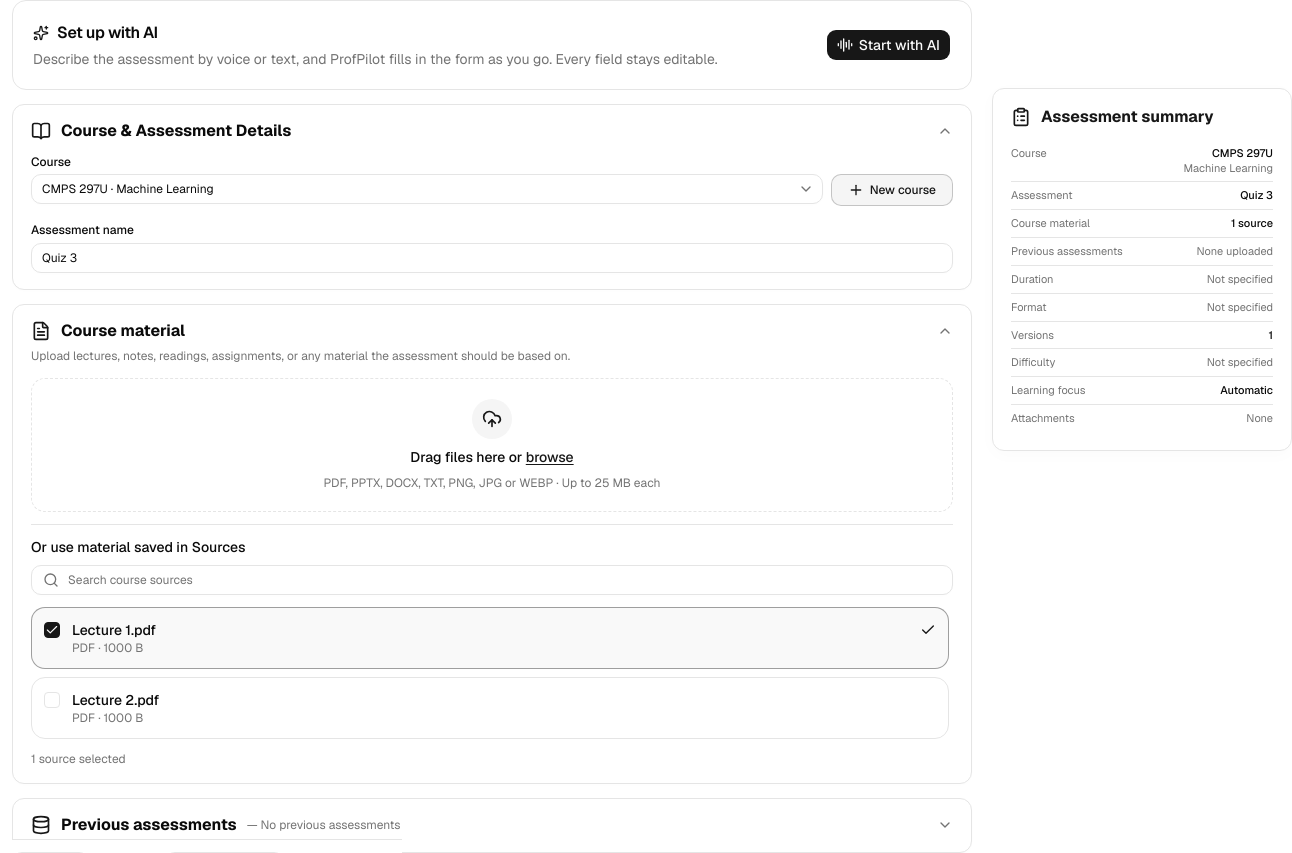
Test: Set up with AI can set the learning focus and select sources, like the manual controls
Click the button "Start with AI".
click(888, 45)  # box x1=826 y1=29 x2=951 y2=61
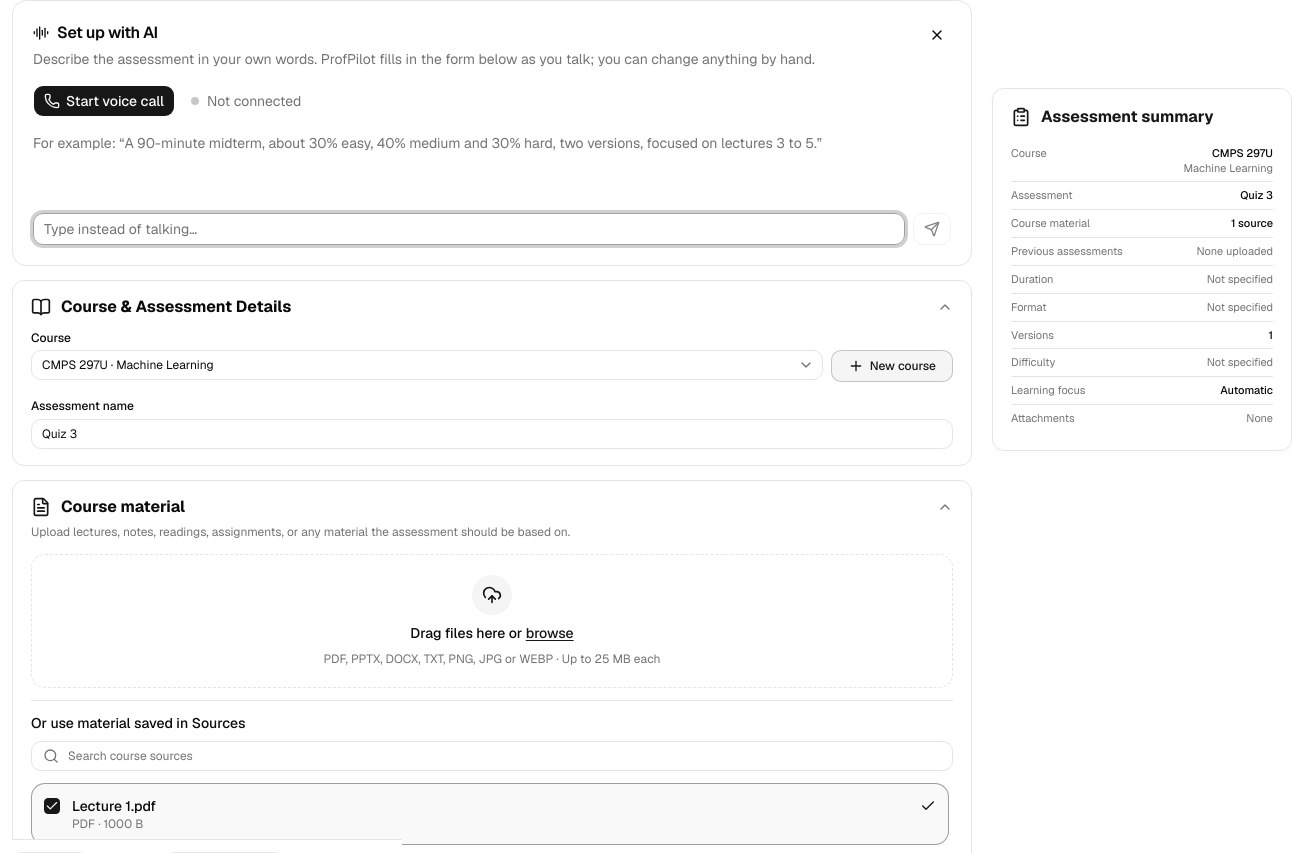
Type "Practical focus, and use lecture 2 instead." into the field named "Message to ProfPilot".
click(469, 229); type("Practical focus, and use lecture 2 instead.")  # box x1=33 y1=213 x2=905 y2=245
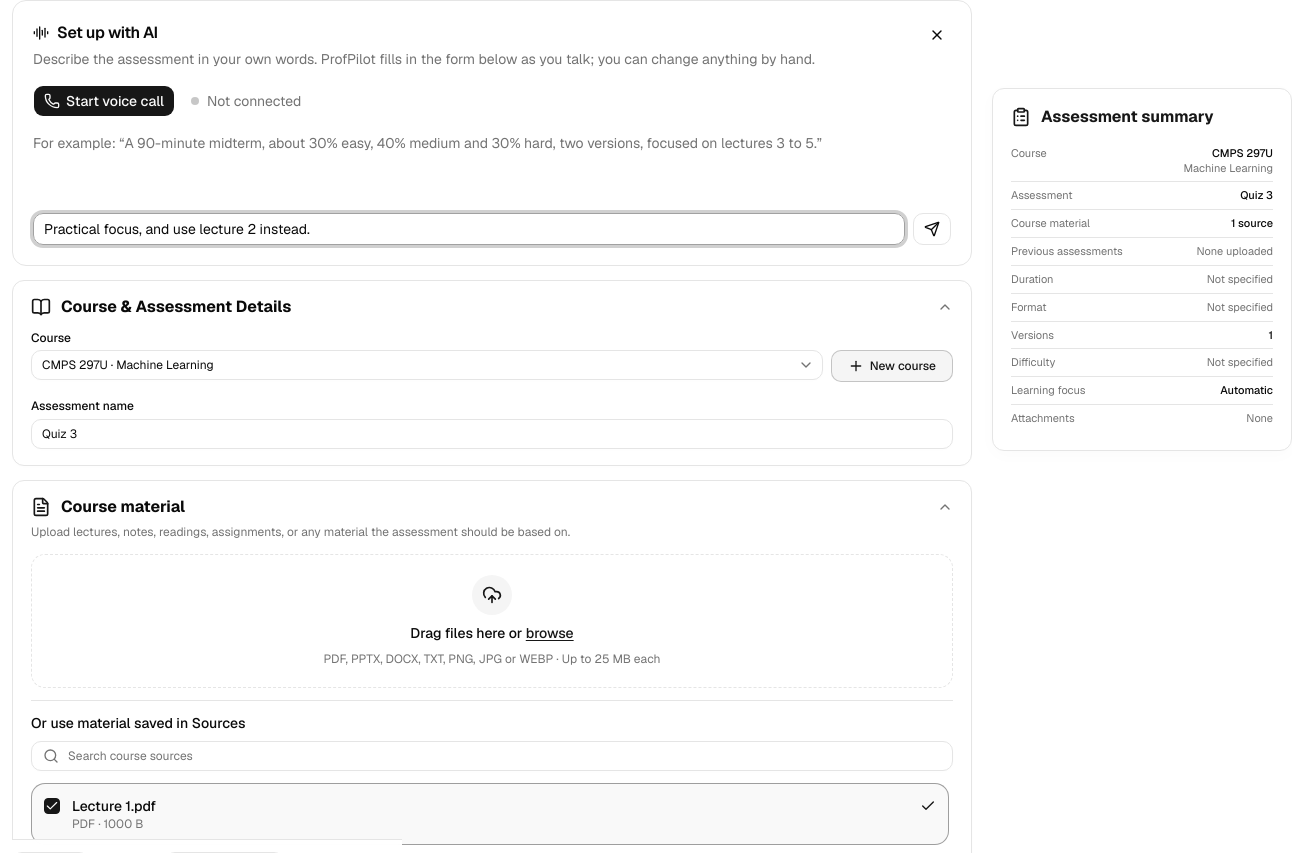
Click the button named "Send message".
click(932, 229)  # box x1=913 y1=213 x2=951 y2=245
(page scrolled)
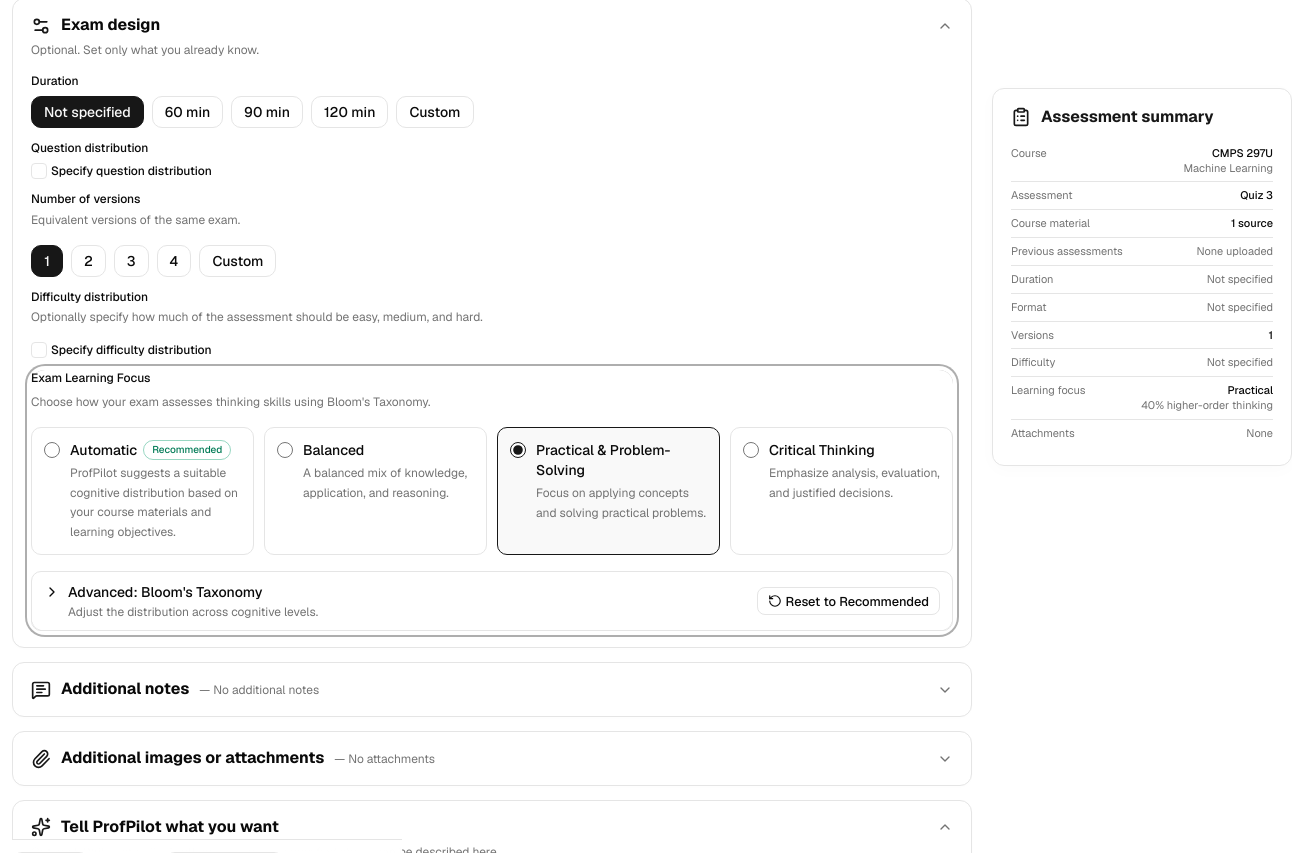
Expected: the radio button labelled "Practical" is checked, x1=510 y1=442 x2=526 y2=458
